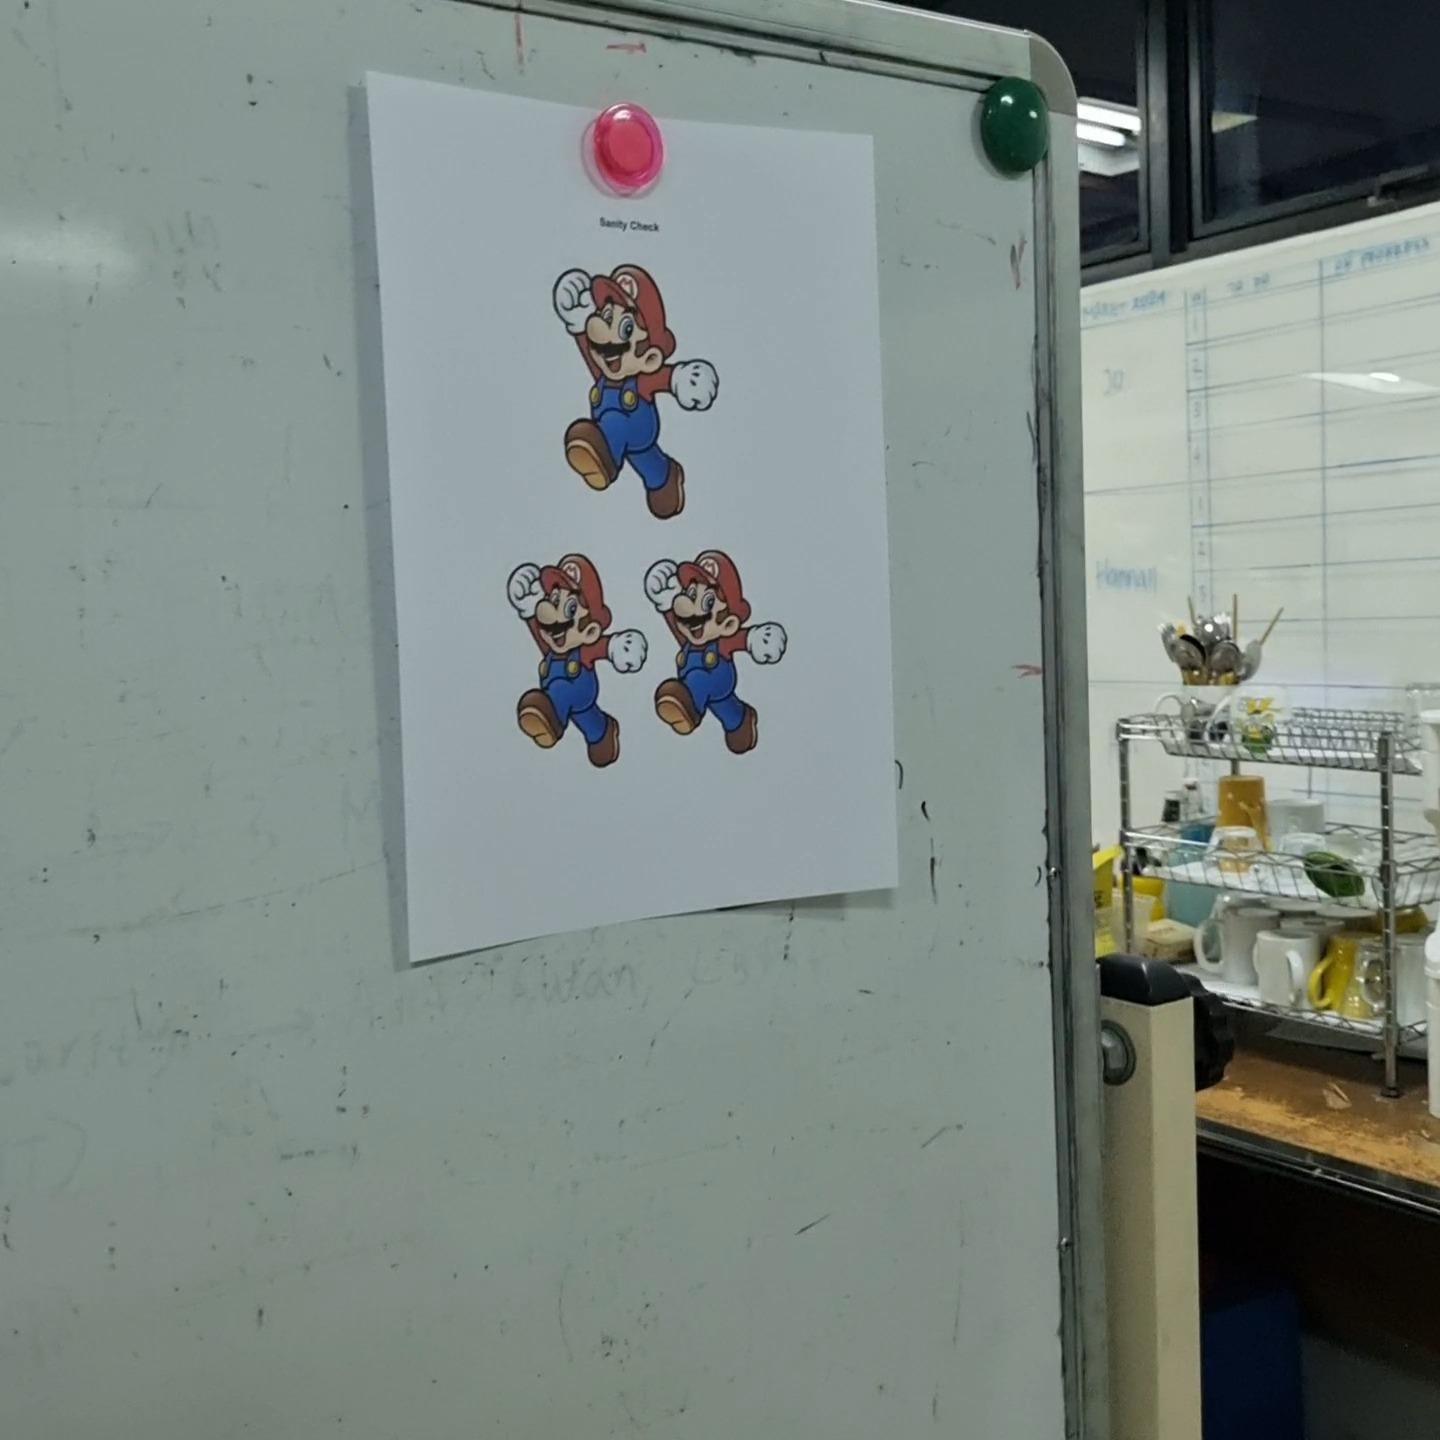mario: (547, 251, 725, 522), (642, 545, 800, 764), (501, 545, 653, 773)
